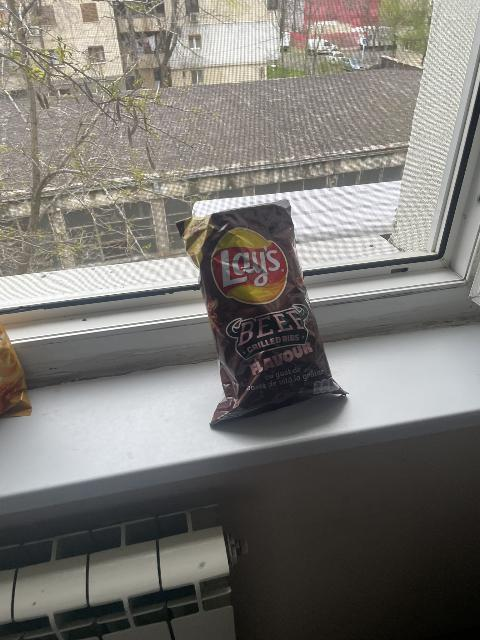Chio Hula Hoops Cheese 70g: (0, 315, 32, 418)
Lays Beef Grilled Ribs 125g: (179, 202, 349, 417)
